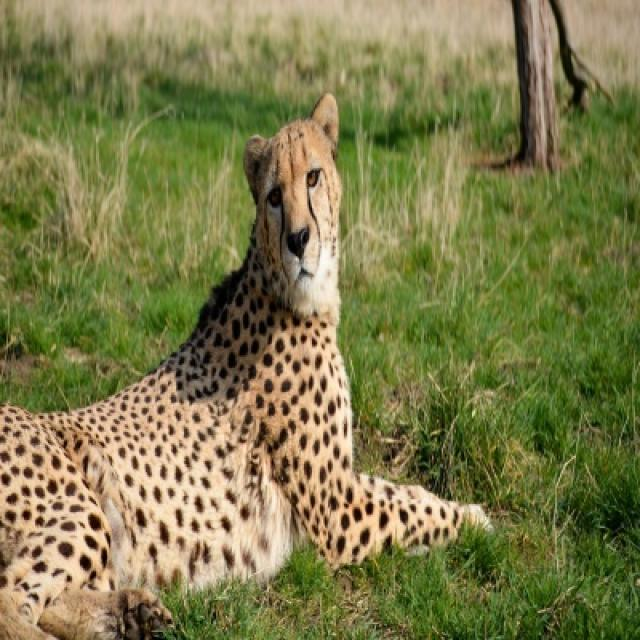Cheetah: (0, 93, 493, 637)
